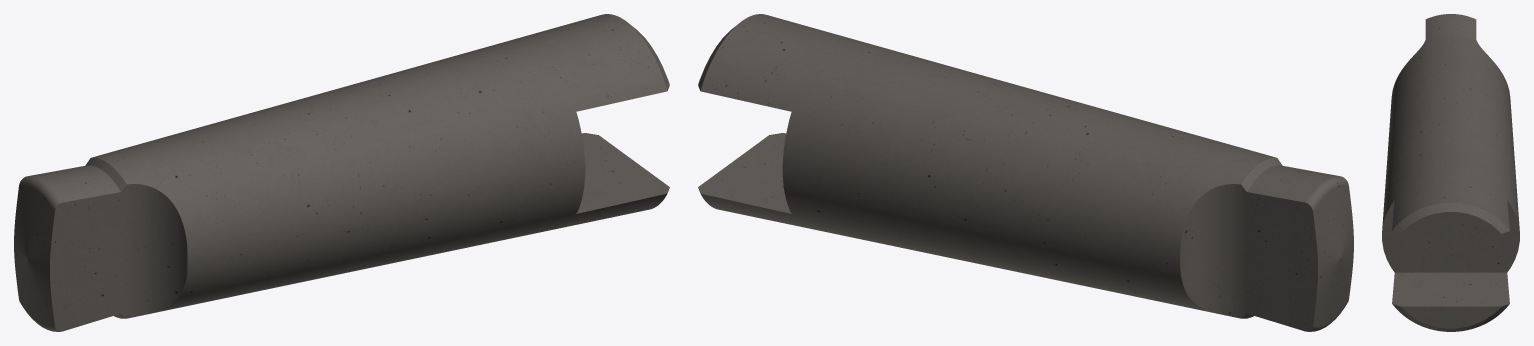
File: Practice49_1.glb
3 views of the same model, side by side, from view 1: azimuth 30°, elevation 25°; view 2: azimuth 150°, elevation 25°; view 3: azimuth 270°, elevation 25° (orthographic). The views are drawn at different scales.
Visible parts, largest first — view 1: Part; view 2: Part; view 3: Part.
Boxes of the visible parts, left/top/right/bottom form: Part: left=14, top=14, right=669, bottom=331; Part: left=698, top=14, right=1353, bottom=331; Part: left=1382, top=14, right=1519, bottom=331.
Size of the model in its own units: 0.1555 by 0.0445 by 0.043.
Materials: 1 (1 with a texture image).
